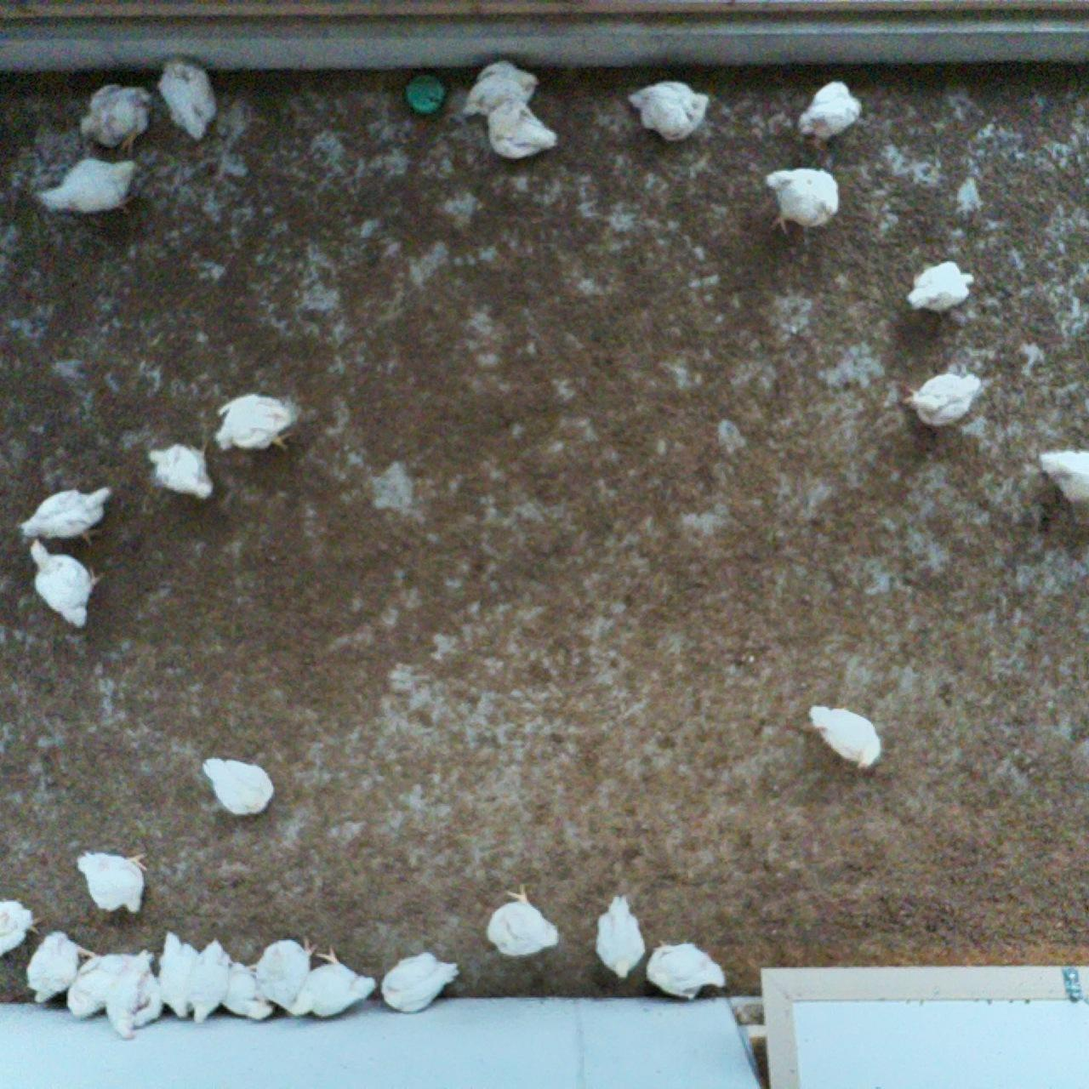chicken: (152, 50, 225, 148), (24, 537, 101, 628), (288, 944, 378, 1021), (483, 881, 566, 963), (34, 157, 141, 219), (72, 78, 153, 159), (213, 389, 302, 457), (764, 165, 848, 237), (72, 846, 155, 918), (22, 929, 98, 1007), (805, 700, 885, 773), (379, 948, 462, 1017), (247, 933, 319, 1011), (624, 76, 709, 142), (644, 936, 729, 1001), (142, 436, 220, 505), (791, 76, 865, 148), (19, 482, 113, 538), (591, 892, 648, 983), (199, 753, 275, 821), (900, 367, 982, 430), (103, 948, 160, 1038), (485, 98, 561, 164), (459, 56, 540, 117), (902, 255, 977, 316), (187, 934, 235, 1025), (155, 927, 200, 1020), (219, 955, 276, 1023), (1036, 446, 1089, 509), (64, 950, 111, 1020), (0, 894, 42, 962)
